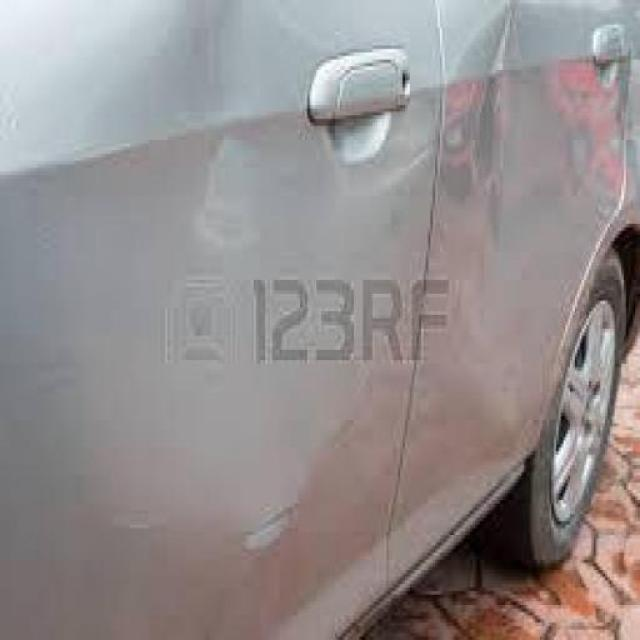dent: (89, 4, 393, 567), (458, 8, 535, 240)
